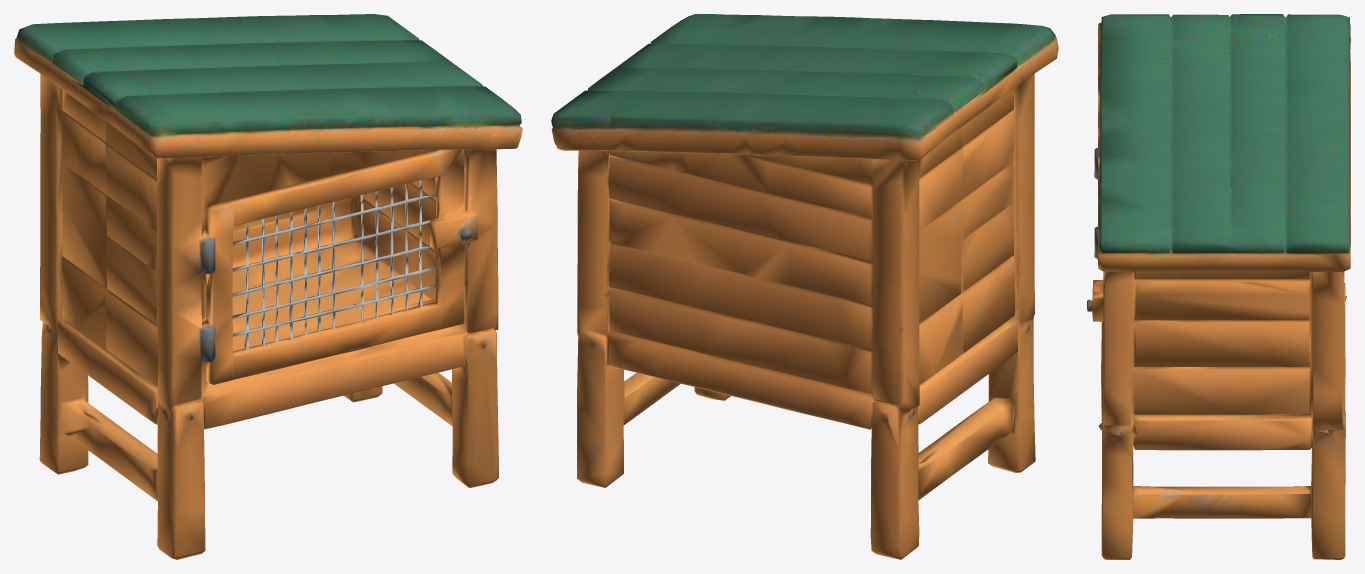
The model's file is hutch.glb.
3 views of the same model, side by side, from view 1: azimuth 30°, elevation 25°; view 2: azimuth 150°, elevation 25°; view 3: azimuth 270°, elevation 25° (orthographic). The views are drawn at different scales.
Visible parts, largest first — view 1: model; view 2: model; view 3: model.
Part boxes in pixels (<box>): model: <box>14,14,522,559</box>; model: <box>551,14,1058,559</box>; model: <box>1087,14,1350,559</box>.
Size of the model in its own units: 1.67 by 1.89 by 1.14.
Materials: 1 (1 with a texture image).
